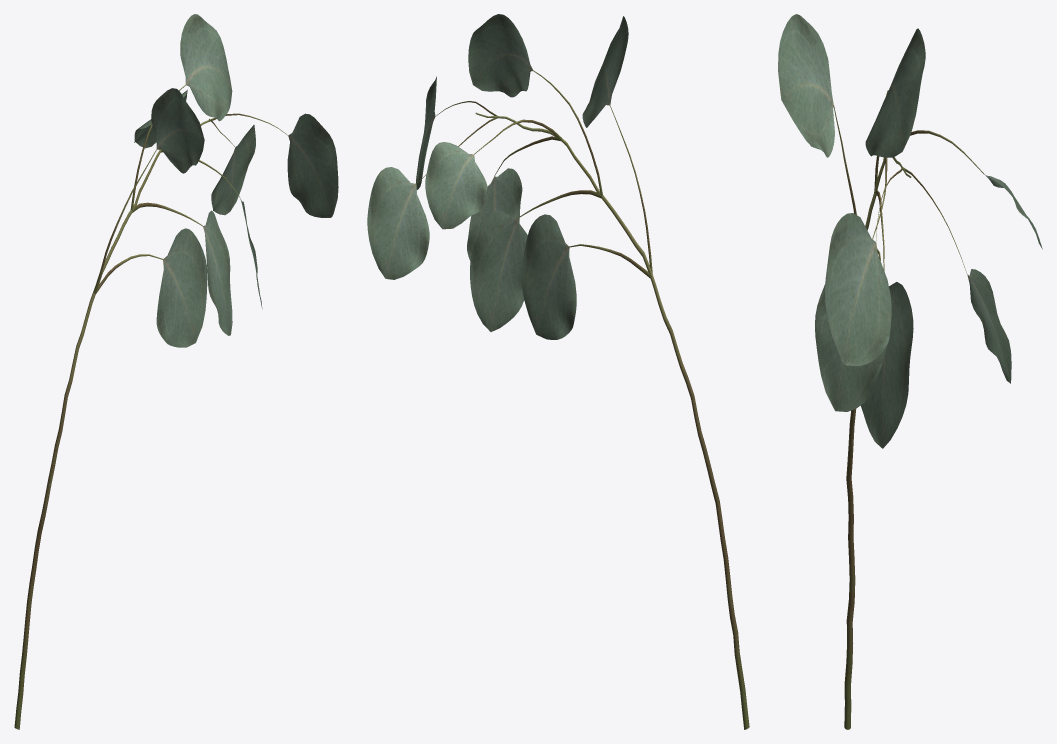
File: eucalyptus-sprig.glb
3 renders of one model, left to right at view 1: azimuth 30°, elevation 25°; view 2: azimuth 150°, elevation 25°; view 3: azimuth 270°, elevation 25°, orthographic. The views are drawn at different scales.
Visible parts, largest first — view 1: Object_19, Object_18; view 2: Object_19, Object_18; view 3: Object_19, Object_18.
Boxes of the visible parts, <box> form: Object_19: <box>134,14,338,347</box>; Object_18: <box>14,84,288,729</box>; Object_19: <box>367,14,628,339</box>; Object_18: <box>416,70,749,729</box>; Object_19: <box>778,14,1042,448</box>; Object_18: <box>833,90,984,729</box>.
Bounding box in the file's own units: 0.5143 × 1 × 0.2905.
Materials: 2 (2 with a texture image).
